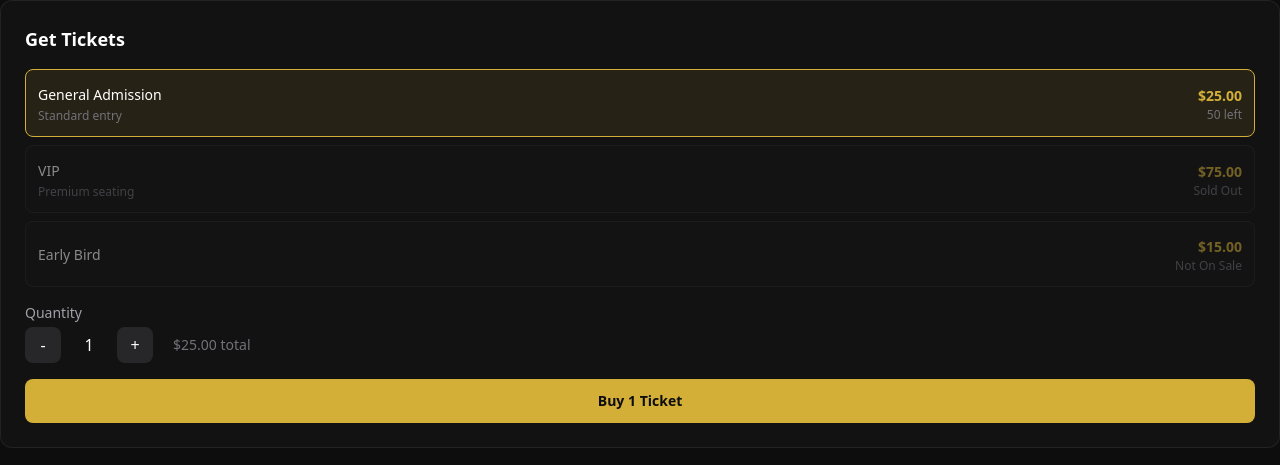
Test: TicketPurchaseWidget › updates buy button text for multiple tickets
The image size is (1280, 465).
Expected: the button "Buy 1 Ticket" is shown, [25,379,1255,423]
Click the button "+".
click(135, 345)  # box [117,327,153,363]
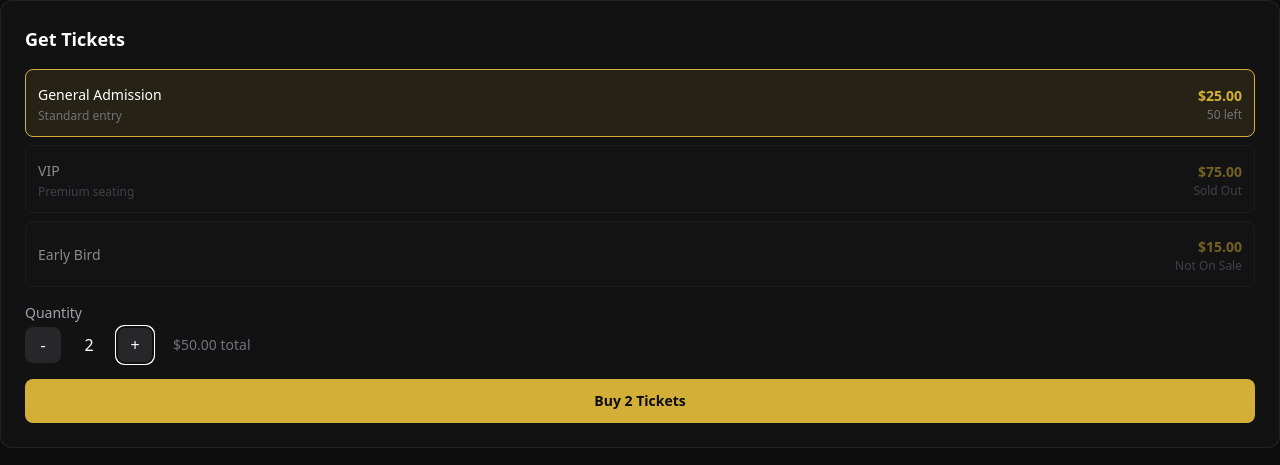
Now the button "Buy 2 Tickets" is shown, box [25,379,1255,423]
